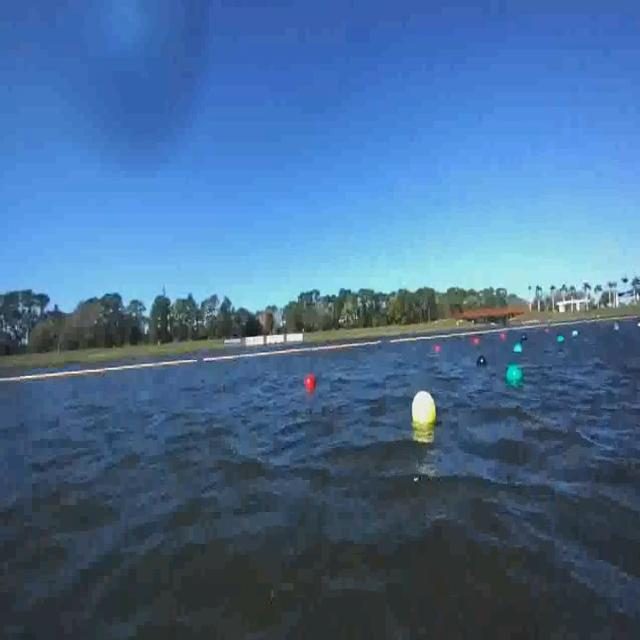black-buoy: (477, 355, 489, 367)
green-buoy: (504, 363, 522, 389), (513, 344, 521, 355), (558, 336, 566, 345)
red-buoy: (306, 376, 316, 391), (304, 374, 314, 389)
yellow-buoy: (411, 392, 436, 431)
